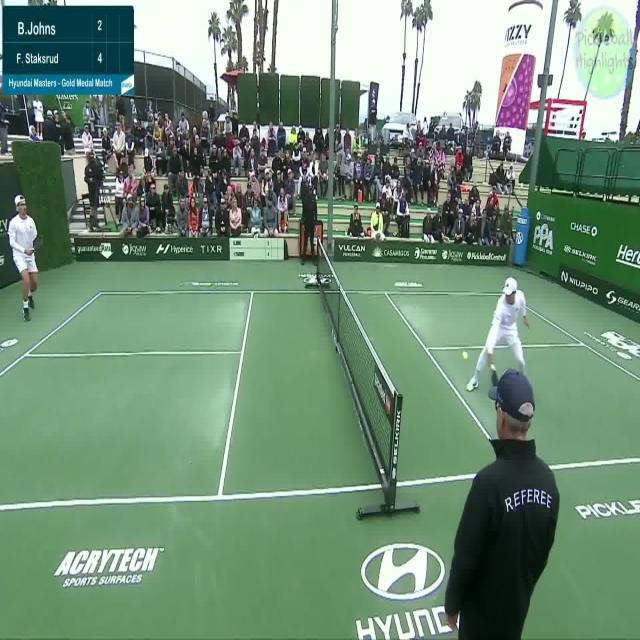ball: (459, 340, 474, 380)
